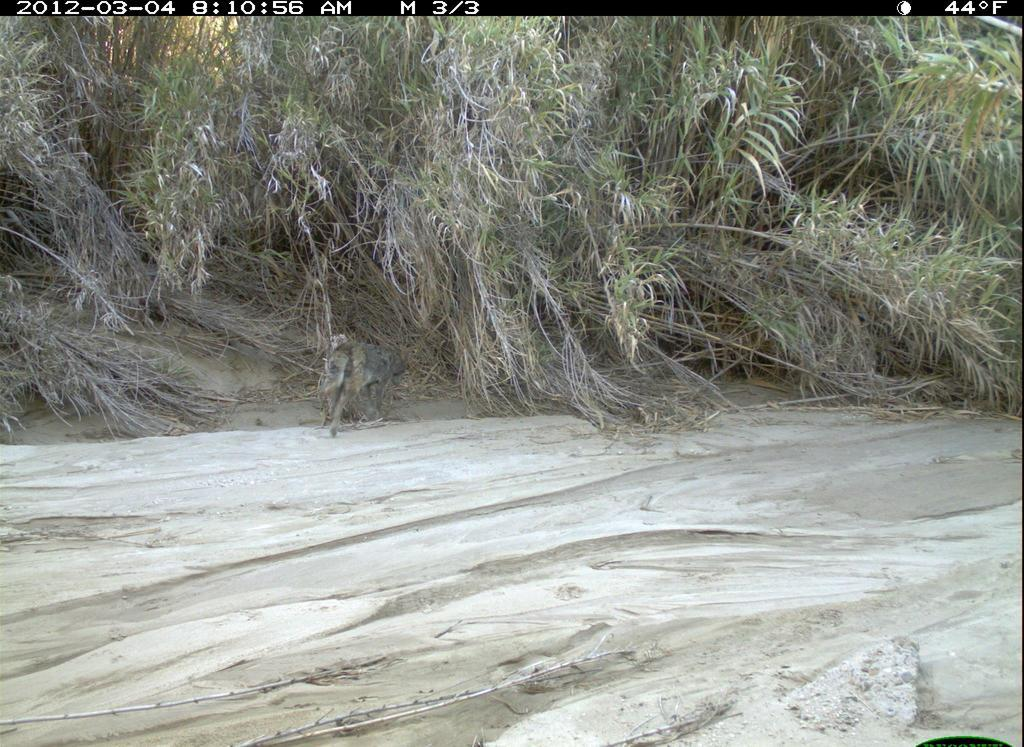coyote: (312, 332, 431, 445)
